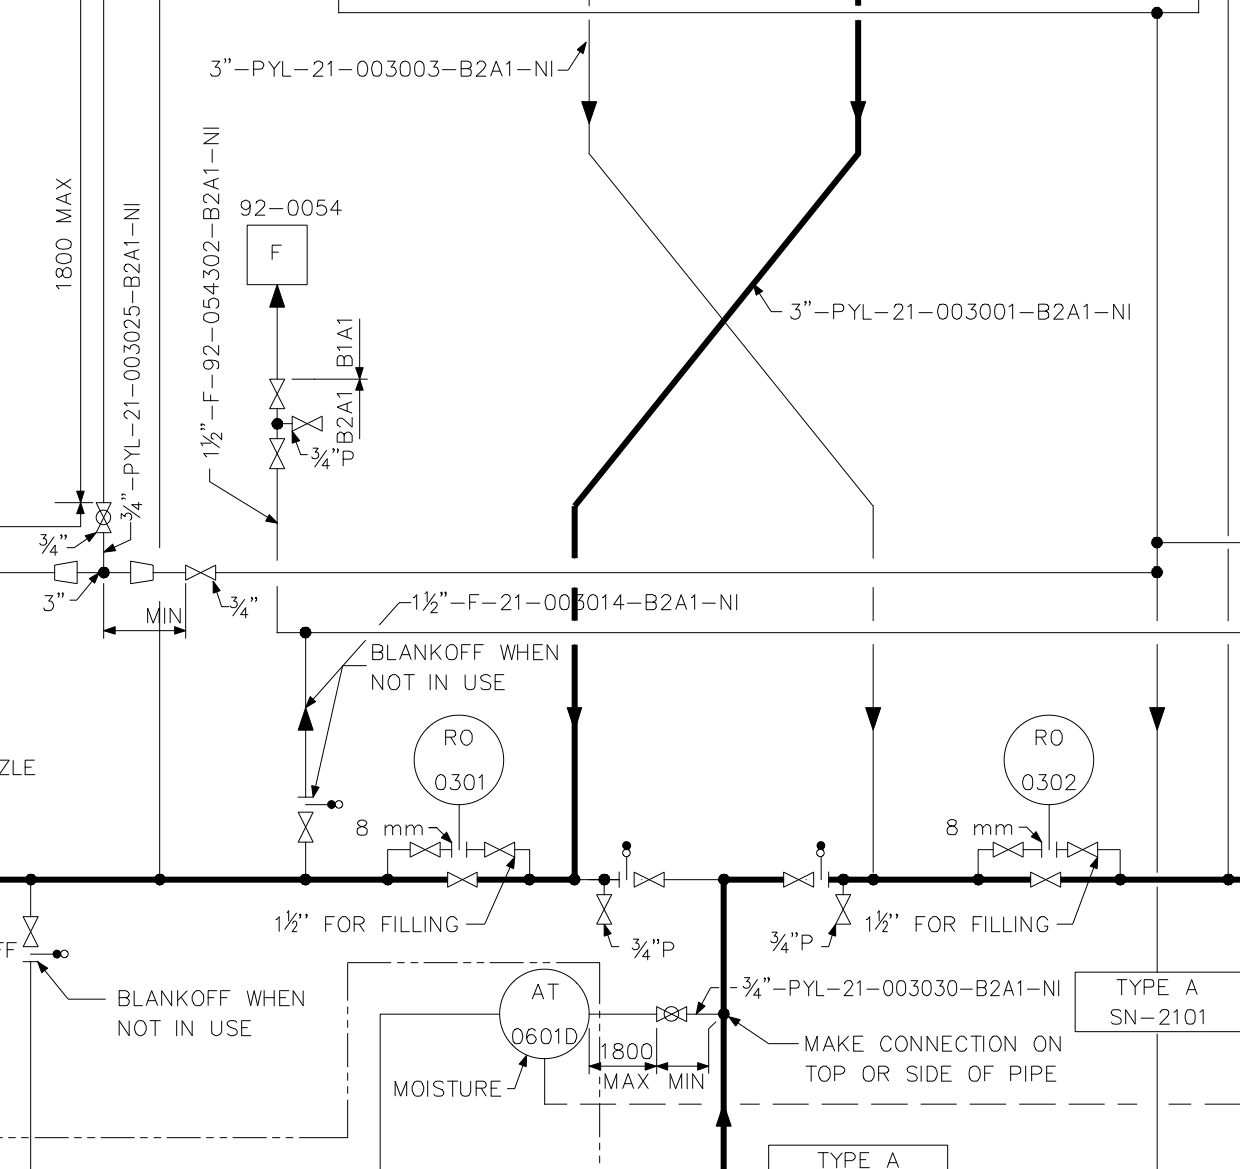Ball Valve: (93, 498, 115, 538)
Intrument Tag: (410, 710, 509, 809), (999, 712, 1098, 811)
Line Number: (206, 55, 559, 82), (784, 298, 1136, 325), (407, 588, 759, 615), (740, 975, 1066, 1002), (119, 183, 144, 525), (201, 122, 226, 463)
Reducer: (127, 558, 158, 588), (53, 558, 81, 590)
Spetacle Blind: (614, 836, 640, 894), (809, 834, 835, 892), (21, 940, 70, 969)
